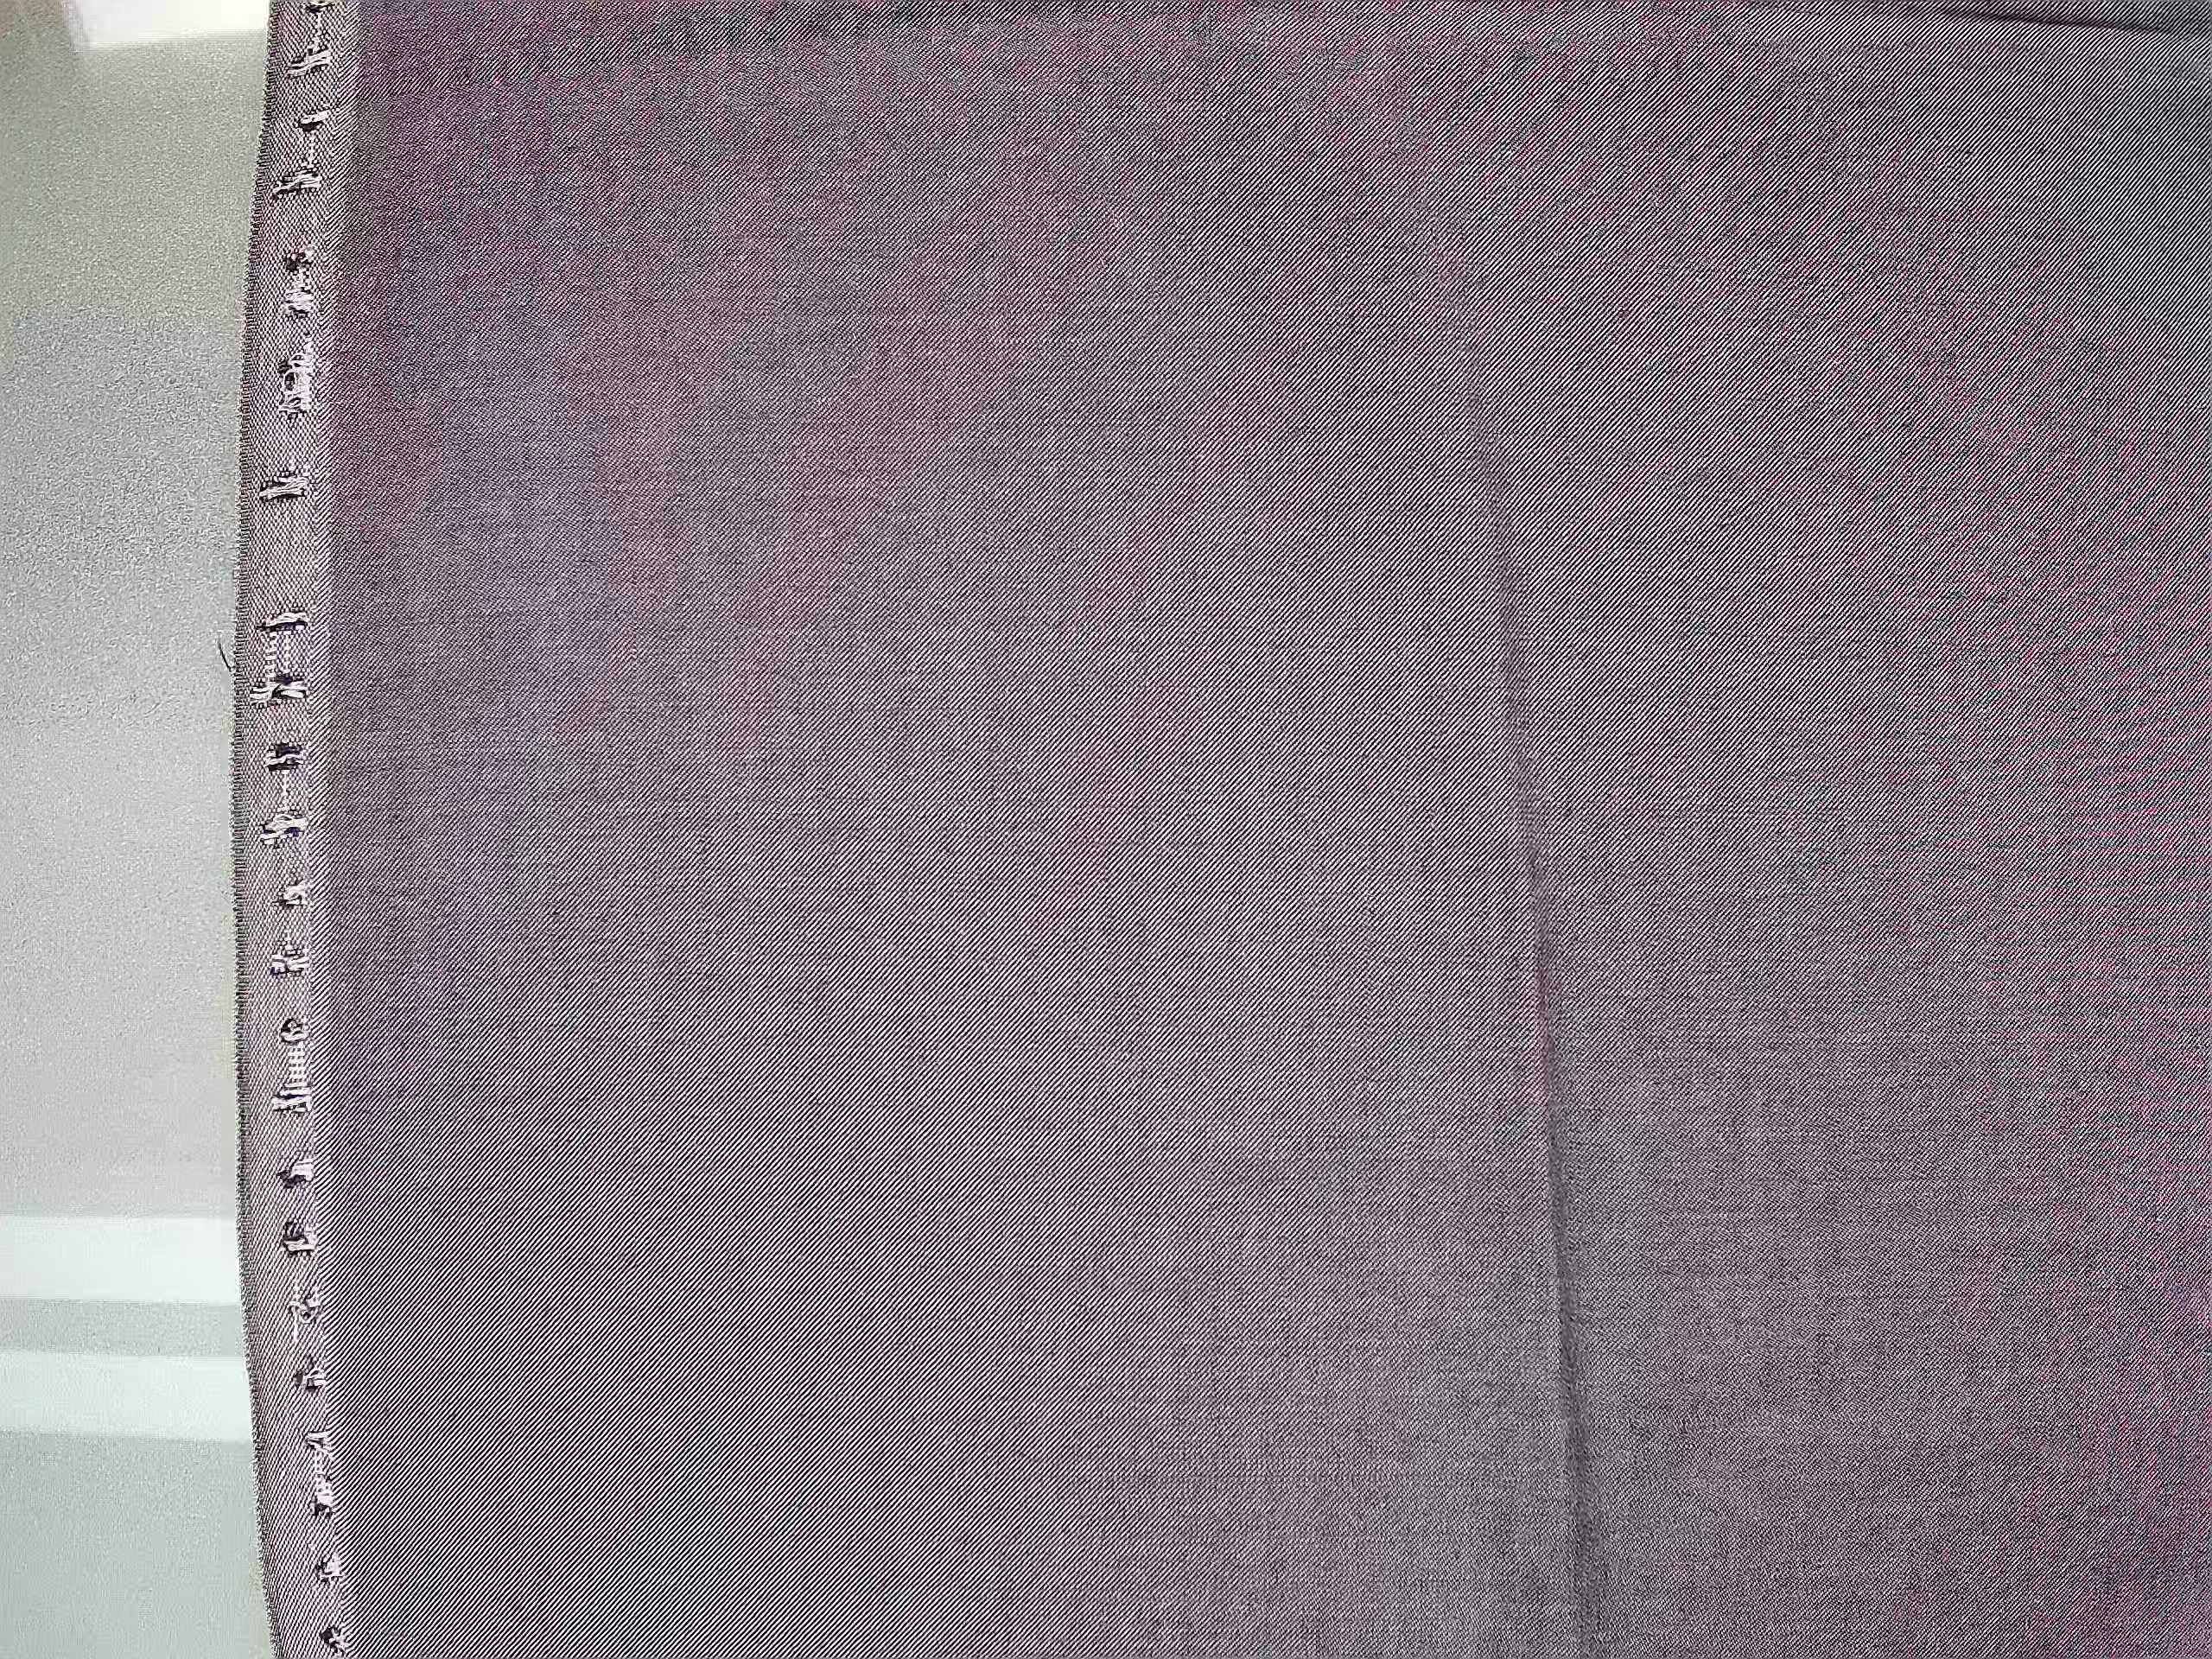puncture-hole: (251, 9, 361, 1652)
